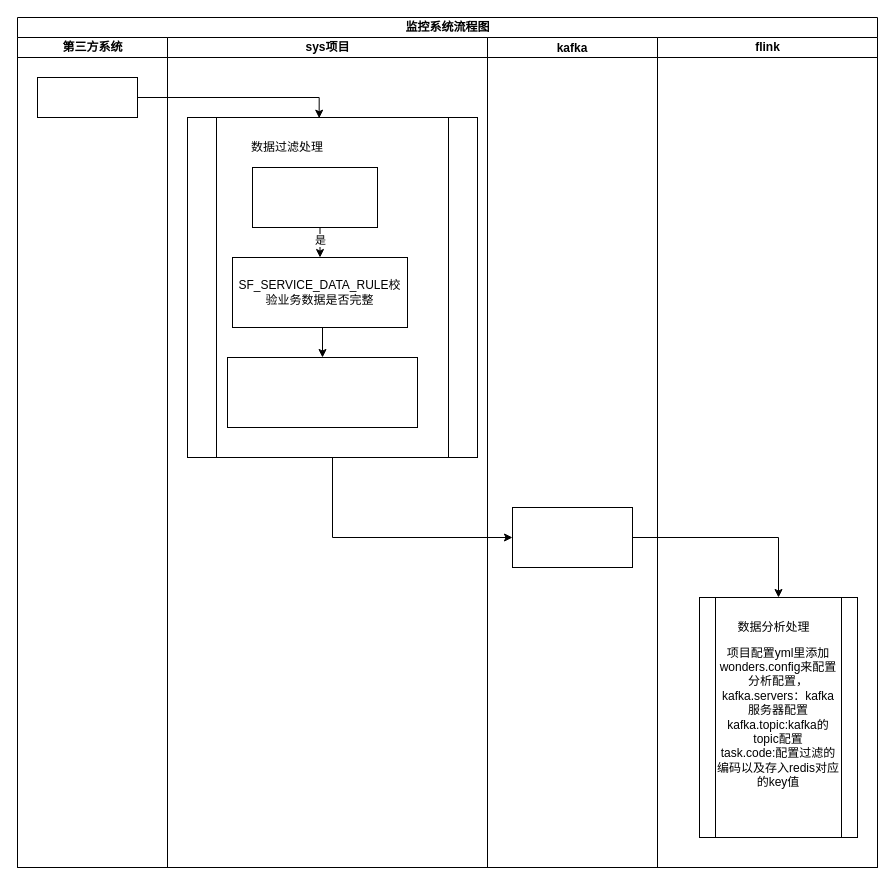
Image size: 895x885. Some labels were removed from this diagram. The centre of each missing label's shape, as x and y in pixels:
"kafka服务" goes at (572,537).
"TB_DATA_MODEL_DISTRIBUTE 数据分发，根据配置分发数据。实现同一条数据的多维度分析" goes at (322,392).
"TB_DATA_MODEL表校验业务编码是否存在" goes at (315,197).
"数据" goes at (87,97).
